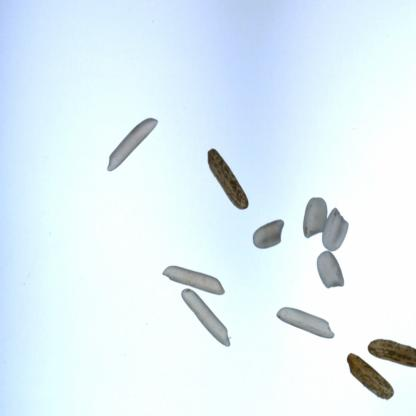Full: (96, 103, 164, 188), (192, 137, 255, 215), (174, 279, 230, 357), (339, 350, 399, 401), (273, 303, 337, 345), (153, 260, 227, 294), (353, 330, 416, 368), (245, 211, 291, 253), (310, 246, 349, 290), (319, 202, 352, 251), (301, 194, 331, 242)
